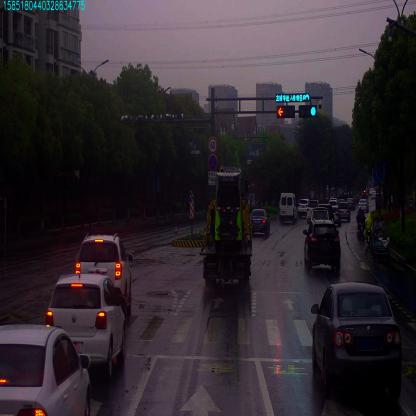traffic-light: (272, 93, 310, 101), (299, 105, 316, 118), (277, 107, 293, 118)
